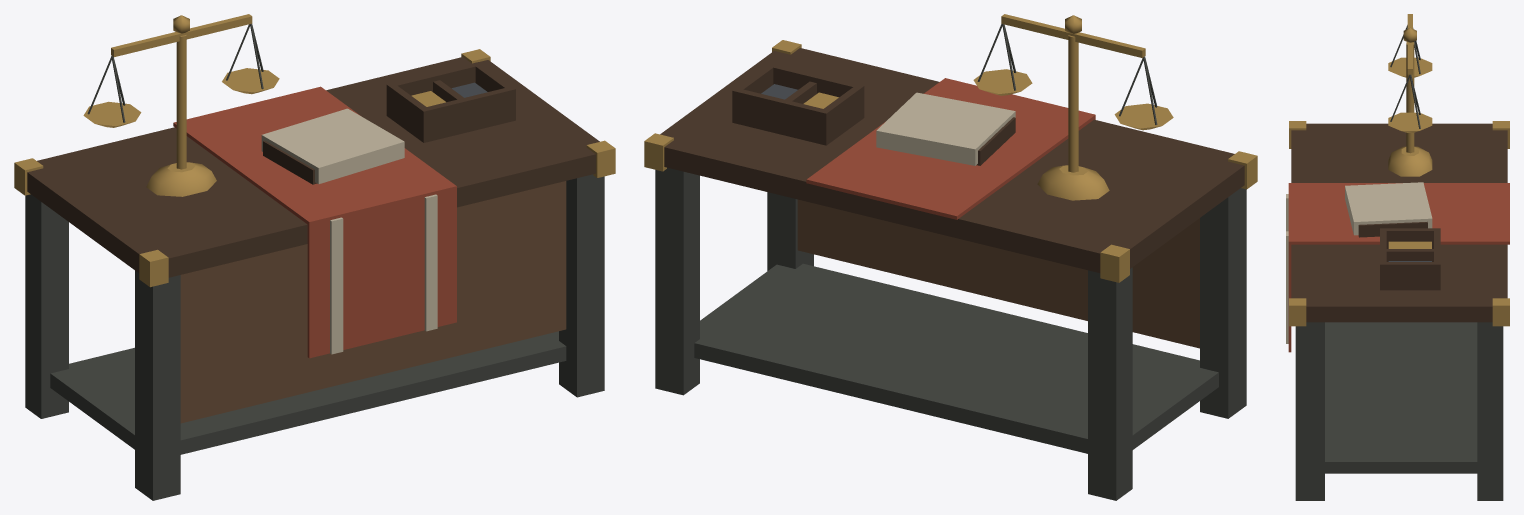
The model's file is goods_scale.glb.
3 renders of one model, left to right at view 1: azimuth 30°, elevation 25°; view 2: azimuth 150°, elevation 25°; view 3: azimuth 270°, elevation 25°, orthographic. The views are drawn at different scales.
Visible parts, largest first — view 1: goods_scale; view 2: goods_scale; view 3: goods_scale.
Part boxes in pixels (box(x1,y1,x2,y2)): goods_scale: box(14, 14, 615, 500); goods_scale: box(644, 14, 1257, 500); goods_scale: box(1286, 14, 1509, 500).
Size of the model in its own units: 2.02 by 1.7 by 1.03.
